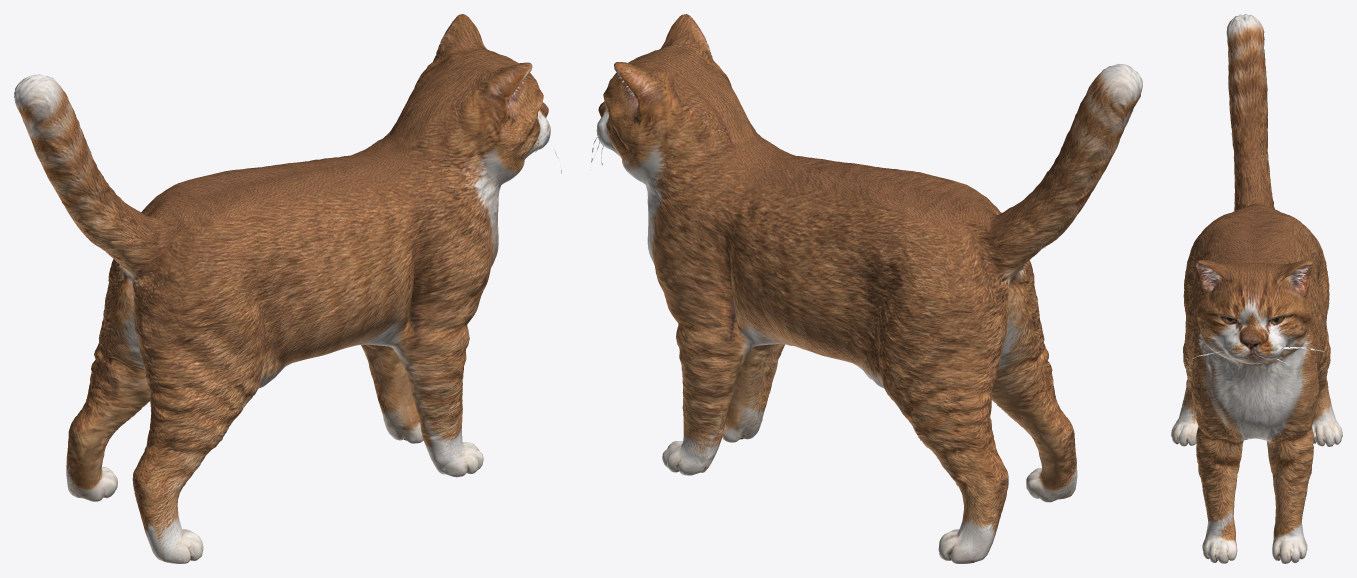
The model's file is HORATIOCAT.glb.
The picture shows the model from 3 angles, left to right: view 1: azimuth 30°, elevation 25°; view 2: azimuth 150°, elevation 25°; view 3: azimuth 270°, elevation 25°; orthographic projection. The views are drawn at different scales.
Visible parts, largest first — view 1: tripo_node_87b87f1c-9832-45ab-8487-4e4df2291ddc; view 2: tripo_node_87b87f1c-9832-45ab-8487-4e4df2291ddc; view 3: tripo_node_87b87f1c-9832-45ab-8487-4e4df2291ddc.
Part boxes in pixels (x1,y1,x2,y2): tripo_node_87b87f1c-9832-45ab-8487-4e4df2291ddc: [14, 14, 561, 563]; tripo_node_87b87f1c-9832-45ab-8487-4e4df2291ddc: [591, 14, 1142, 563]; tripo_node_87b87f1c-9832-45ab-8487-4e4df2291ddc: [1171, 14, 1342, 563].
Size of the model in its own units: 1.16 by 0.9998 by 0.4056.
1 material, 1 textured.
